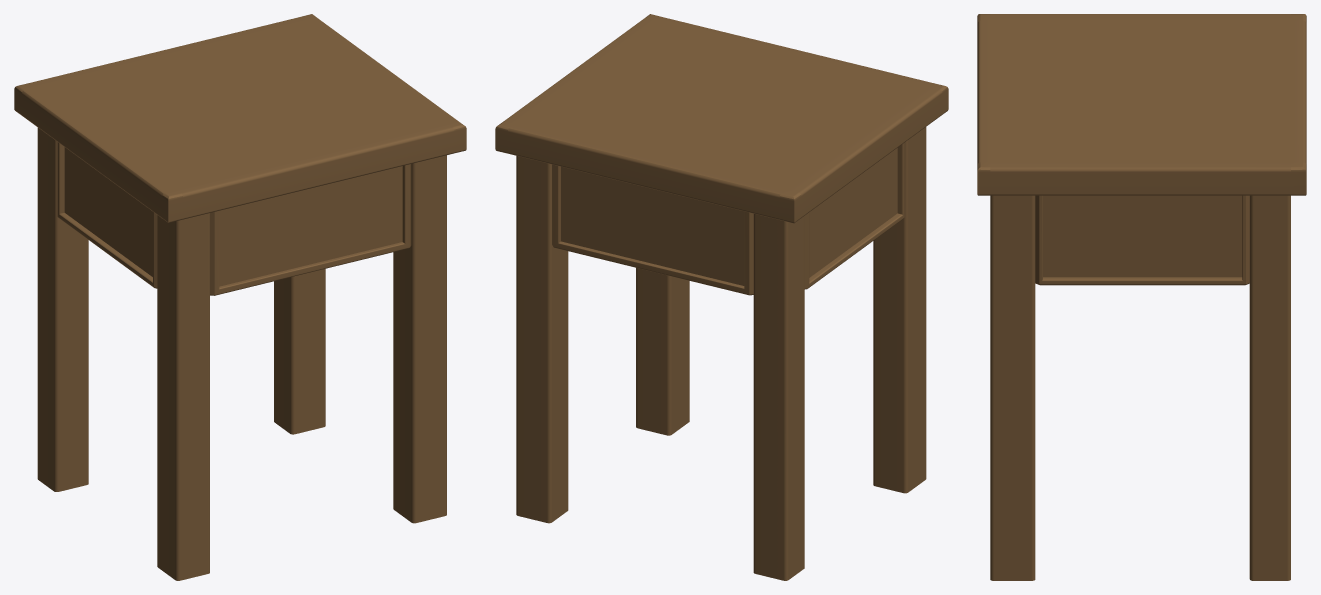
The model's file is foyerTable.fbx.
3 renders of one model, left to right at view 1: azimuth 30°, elevation 25°; view 2: azimuth 150°, elevation 25°; view 3: azimuth 270°, elevation 25°, orthographic. The views are drawn at different scales.
Parts seen in each view (by area): view 1: pCube1; view 2: pCube1; view 3: pCube1.
Part boxes in pixels (box(x1,y1,x2,y2)): pCube1: box(14, 14, 466, 580); pCube1: box(495, 14, 948, 580); pCube1: box(977, 14, 1306, 580).
Bounding box in the file's own units: 5.98 × 7.5 × 5.34.
